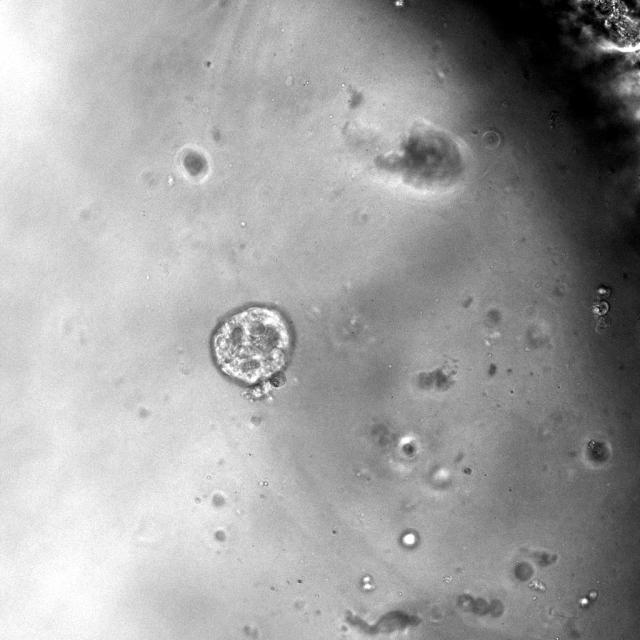organoid: (211, 305, 294, 400), (376, 123, 462, 188), (176, 145, 211, 183), (457, 593, 504, 617), (591, 285, 611, 333), (587, 439, 610, 463), (513, 561, 533, 581)
